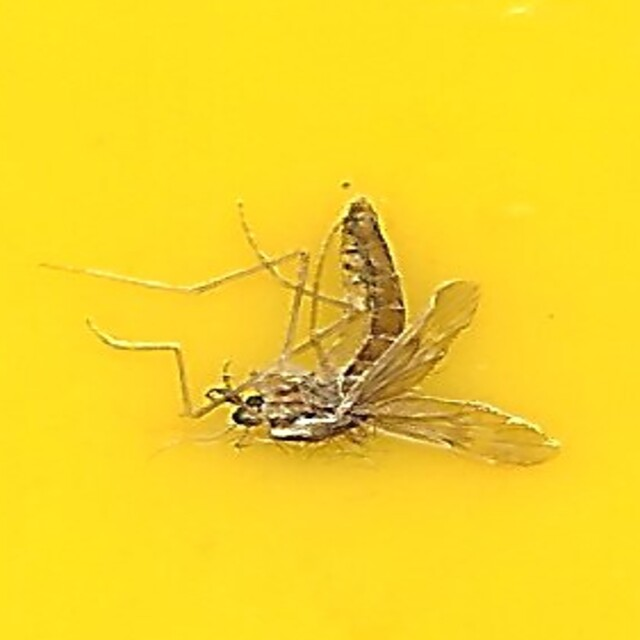Nematocera: (228, 186, 412, 454)
